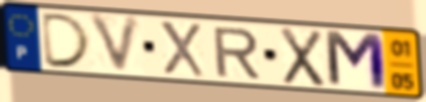D: (40, 11, 94, 70)
M: (321, 28, 391, 94)
R: (210, 26, 262, 80)
V: (86, 11, 145, 77)
X: (278, 25, 327, 89), (156, 19, 207, 80)
